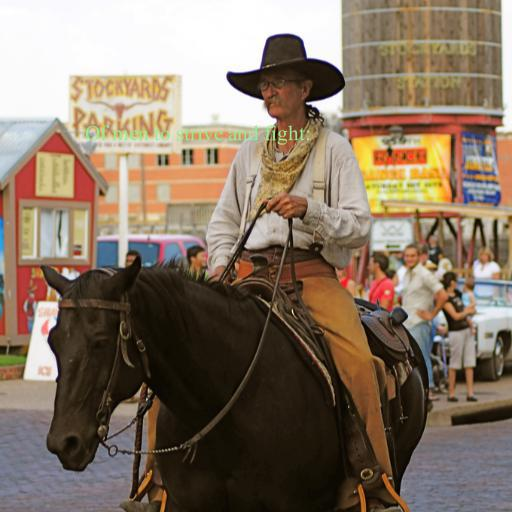Times New Roman: (85, 125, 311, 145)
